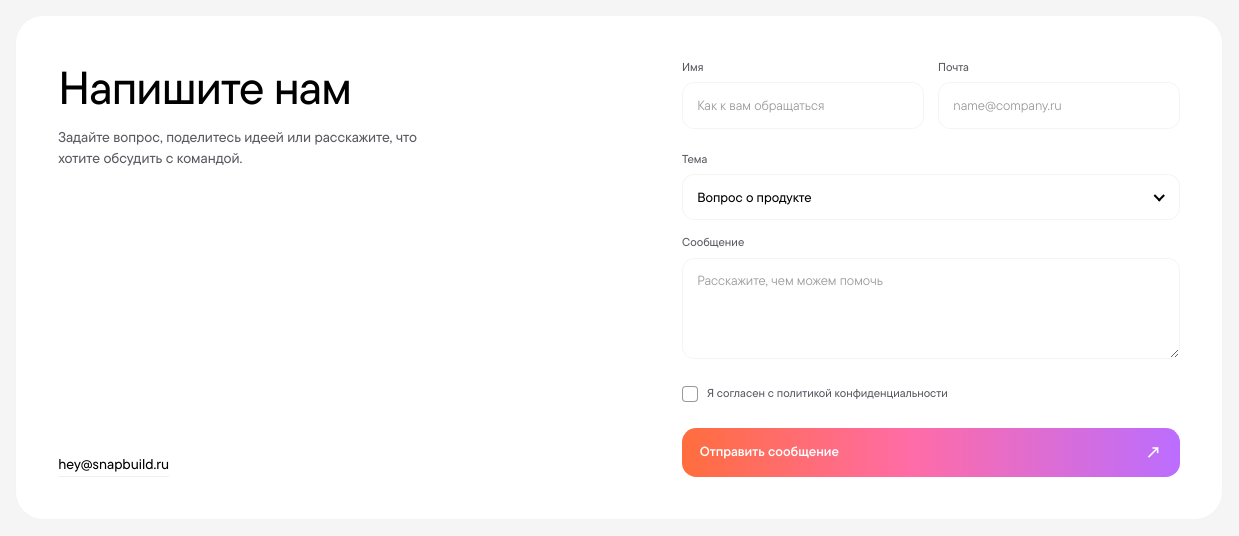
Test: semantic controls › opens the custom topic list and selects an option with the keyboard
Click the button named "Тема" at (754, 197), box [682,174,1180,220]
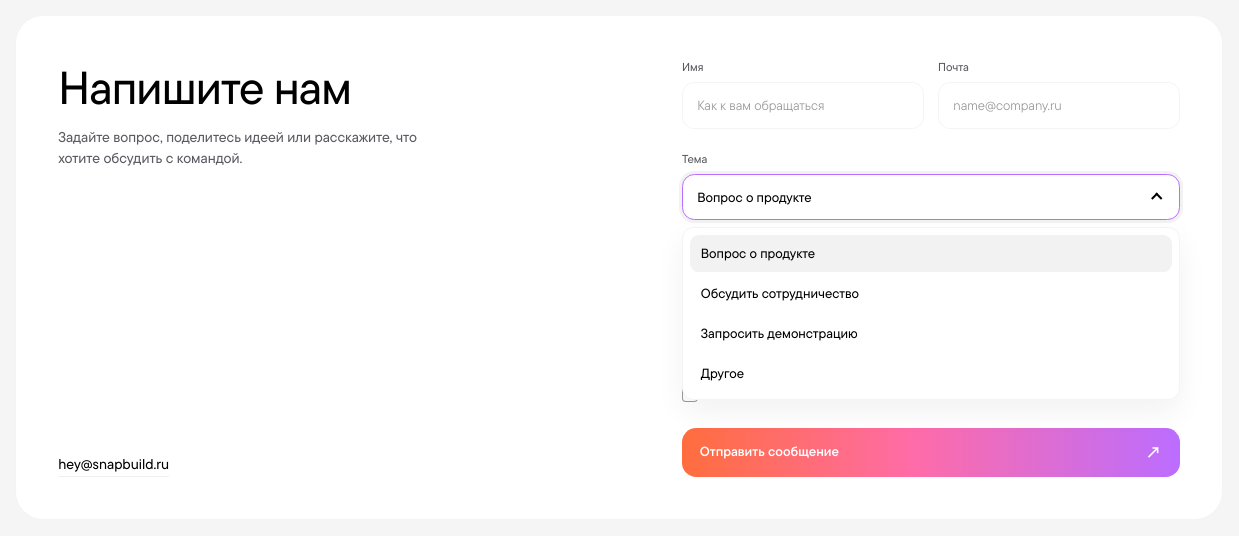
Expected: the button named "Тема" is expanded, [682,174,1180,220]
Press Arrowdown Enter
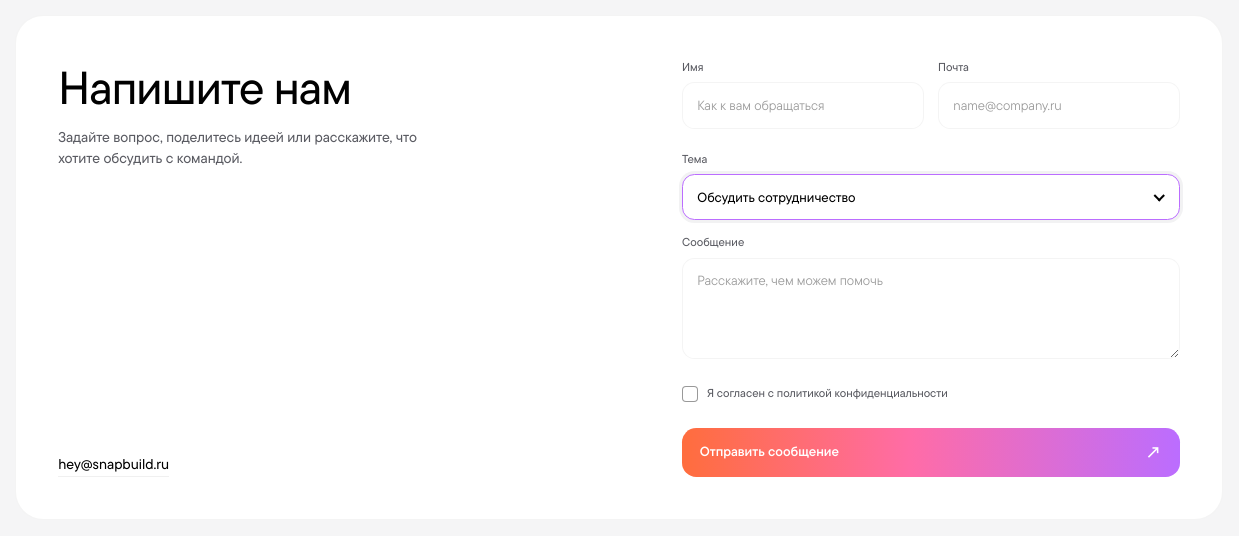
Expected: the button named "Тема" reads "Обсудить сотрудничество", [682,174,1180,220]
Expected: the button named "Тема" is collapsed, [682,174,1180,220]
